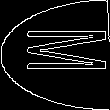M_E: (5, 32, 105, 78)
